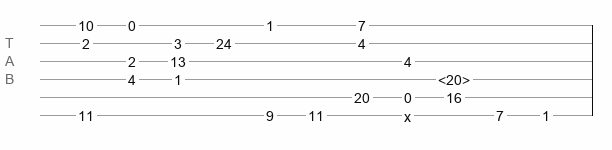0: (128, 18, 136, 28), (404, 90, 412, 100)
1: (174, 72, 182, 82), (266, 18, 274, 28), (542, 108, 550, 118)
10: (78, 18, 94, 28)
11: (78, 108, 94, 118), (308, 108, 324, 118)
13: (170, 54, 186, 64)
16: (446, 90, 462, 100)
2: (82, 36, 90, 46), (128, 54, 136, 64)
20: (354, 90, 370, 100)
24: (216, 36, 232, 46)
3: (174, 36, 182, 46)
4: (128, 72, 136, 82), (358, 36, 366, 46), (404, 54, 412, 64)
7: (358, 18, 366, 28), (496, 108, 504, 118)
9: (266, 108, 274, 118)
harmonic: (438, 72, 470, 82)
x: (404, 109, 411, 117)
